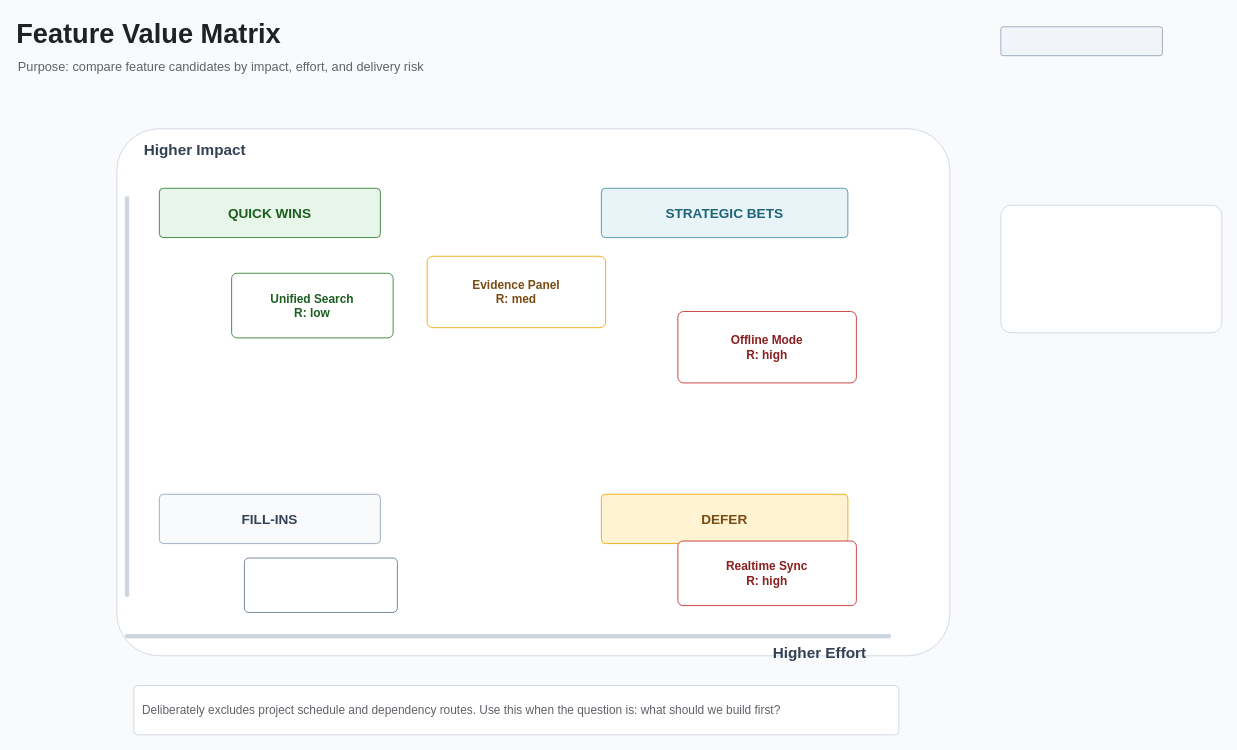
This 1237x750 diagram has some shape labels left out. Here are the shapes that lost their labels. From the top down, the centre of each, then its label:
At pixel 1081 41: "Prioritization map".
At pixel 1111 268: "Size = priority weight Green = low risk Amber = medium risk Red = high risk".
At pixel 320 584: "Theme Polish R: low".
